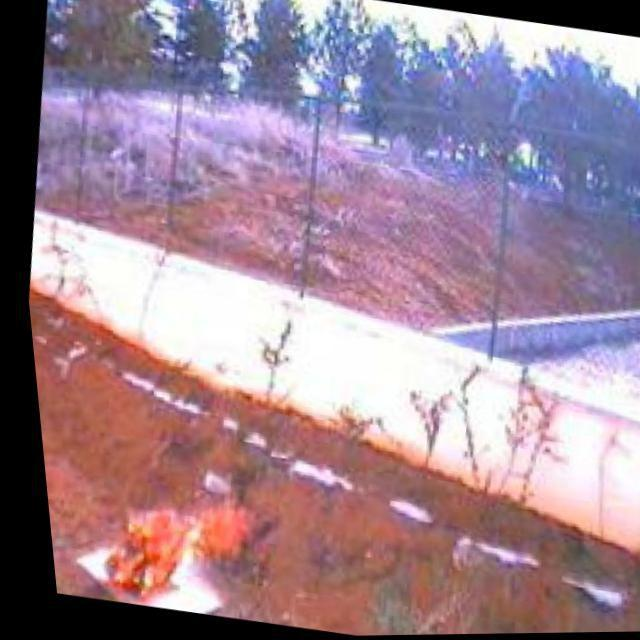fire: (79, 480, 253, 618)
